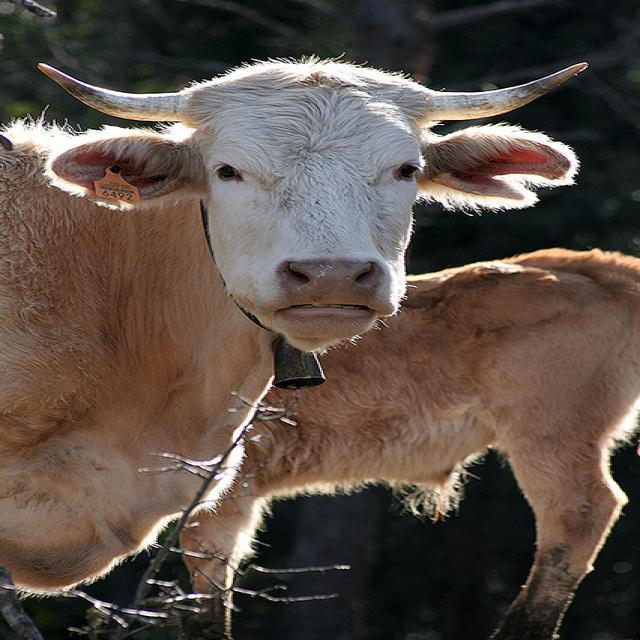cow: (0, 58, 584, 590), (172, 247, 639, 629)
